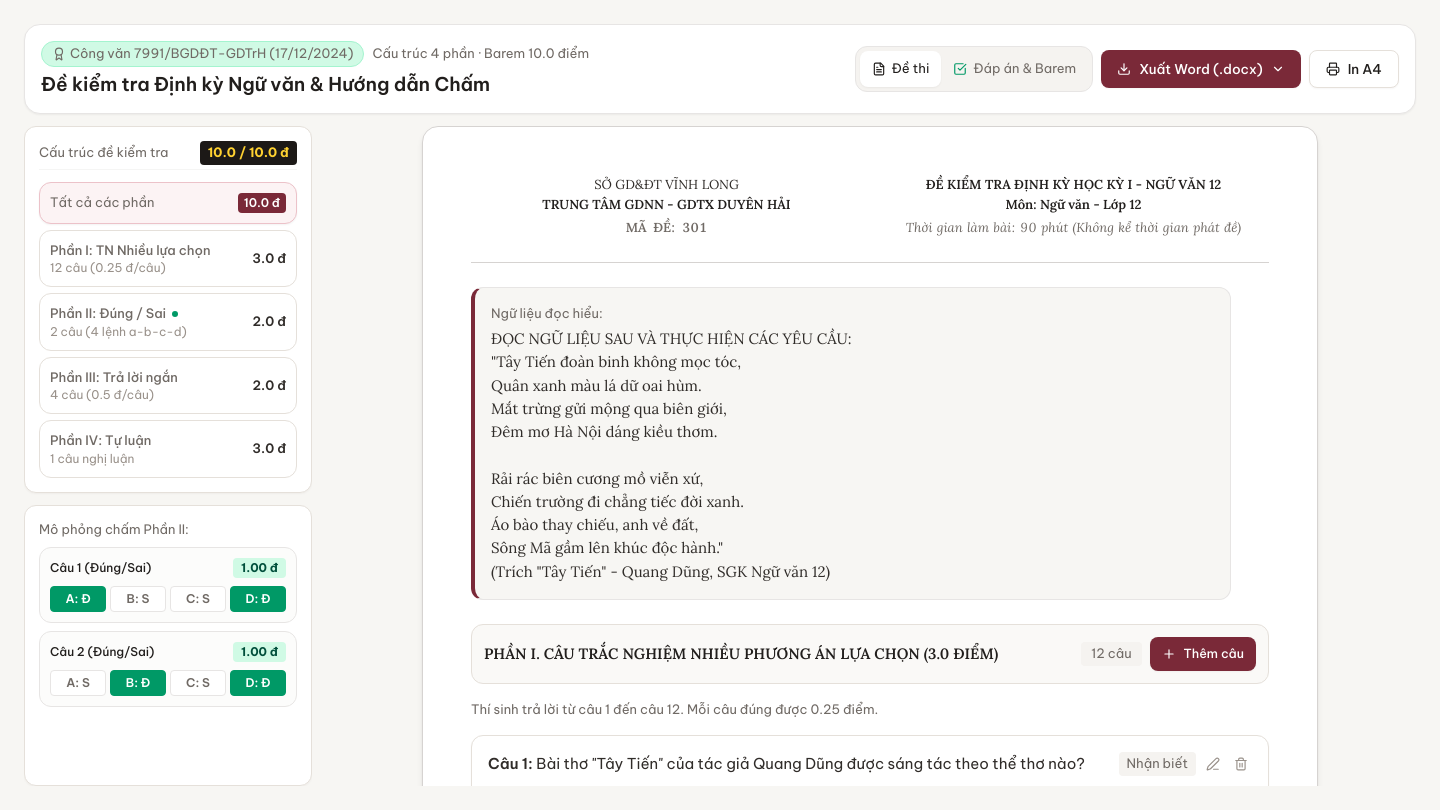
Test: Functional: Exam 7991 Builder & Scoring Simulator › Exam Presentation & Ribbon Summary › switches view mode between "Đề thi" and "Đáp án & Barem"
Click the button "Đáp án & Barem". click: (1015, 69)
box: [941, 51, 1088, 87]
(page scrolled)
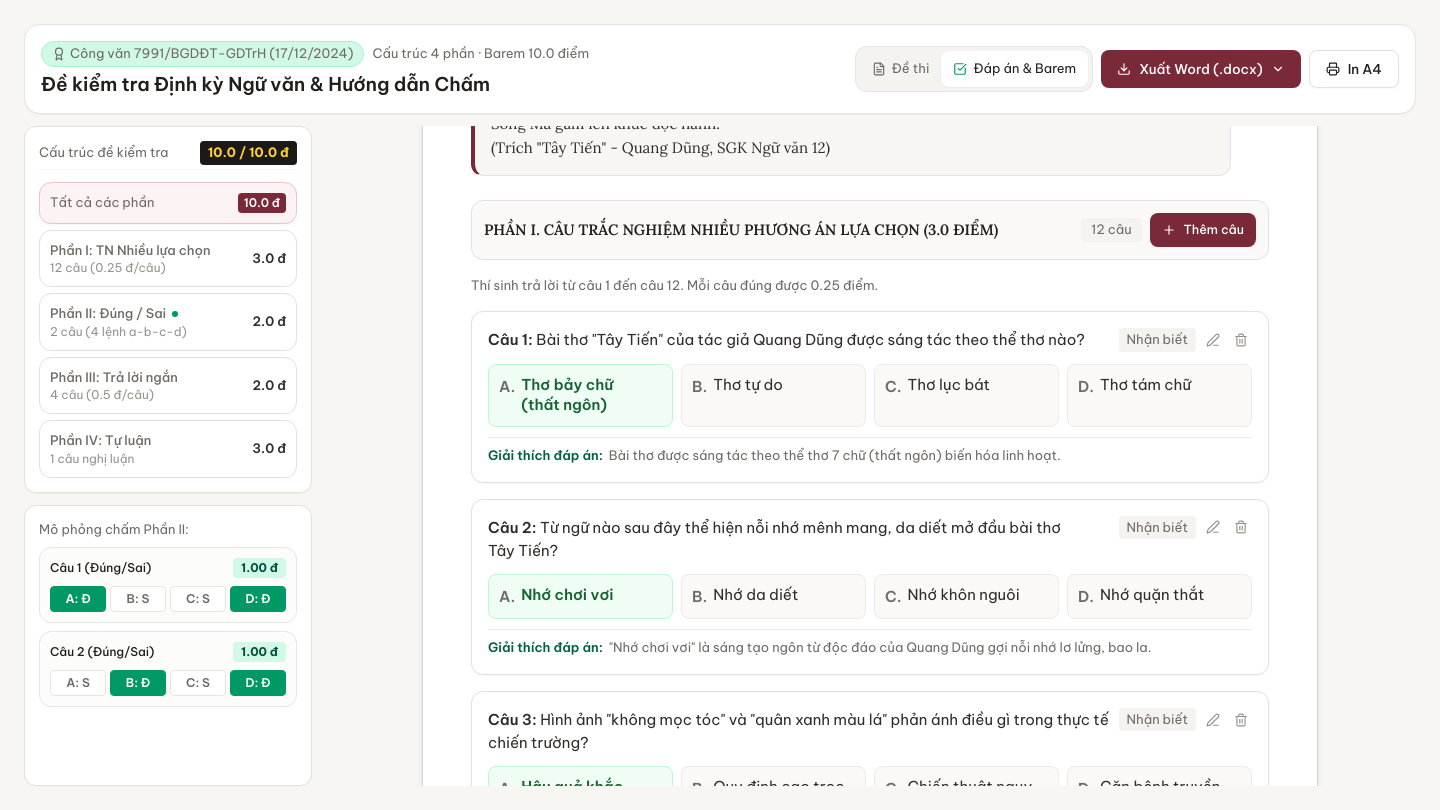
Now the text "Giải thích đáp án:" below "Thơ bảy chữ (thất ngôn)" is shown, box [488, 447, 603, 463]
